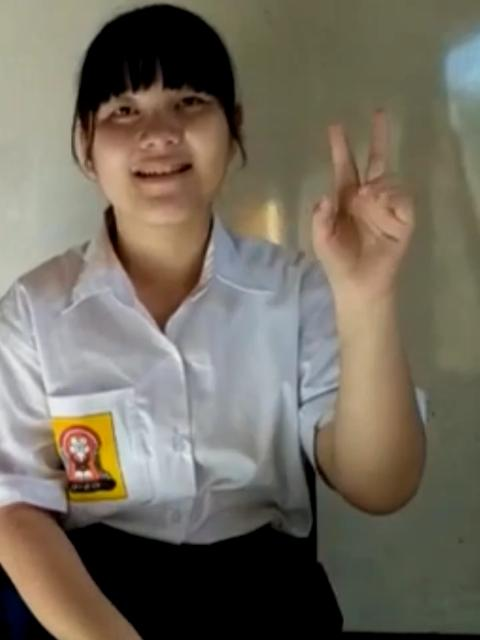V: (299, 98, 427, 304)
